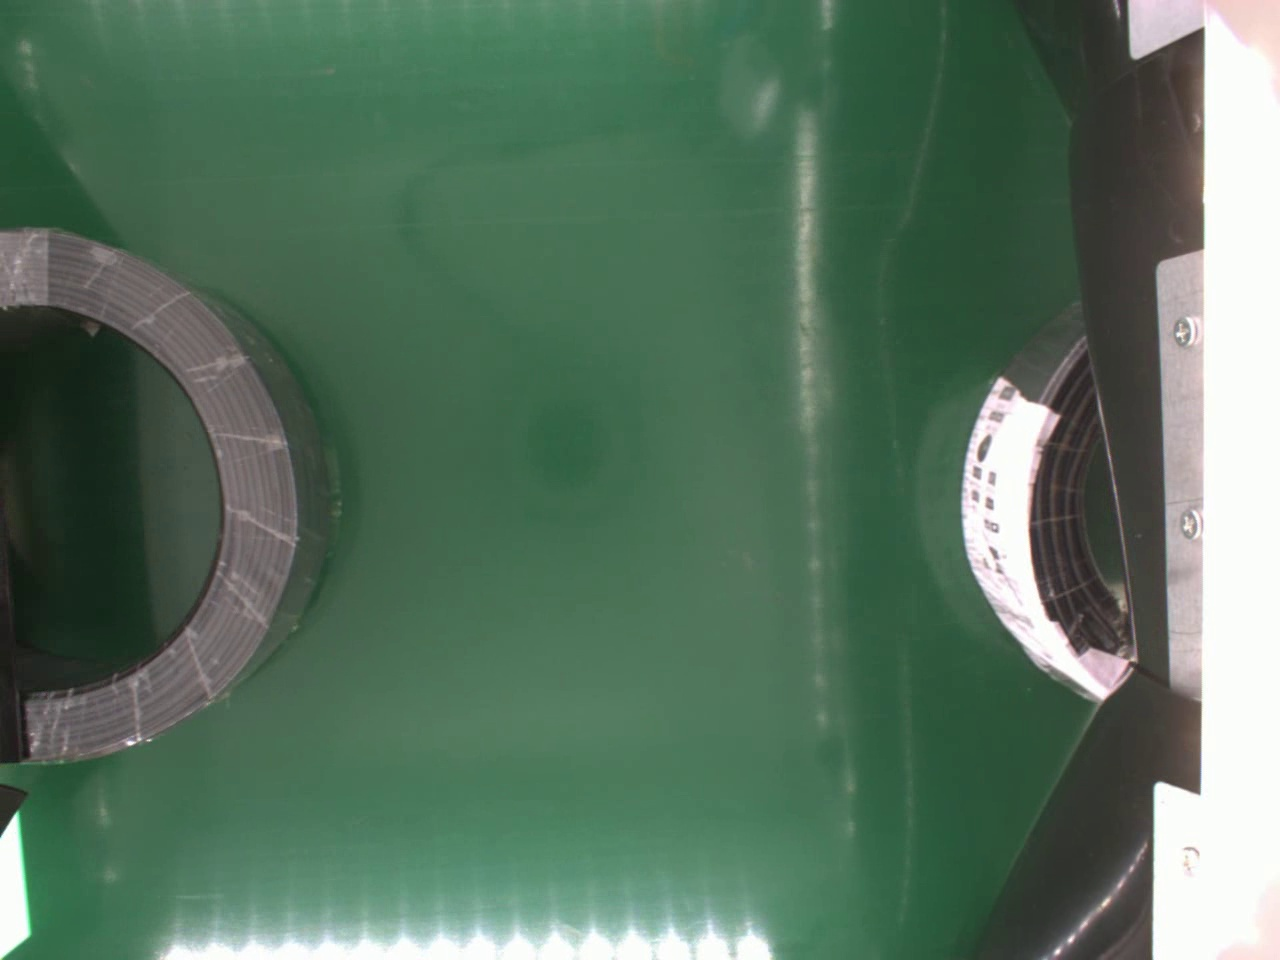black: (0, 228, 333, 769), (957, 287, 1132, 703)
